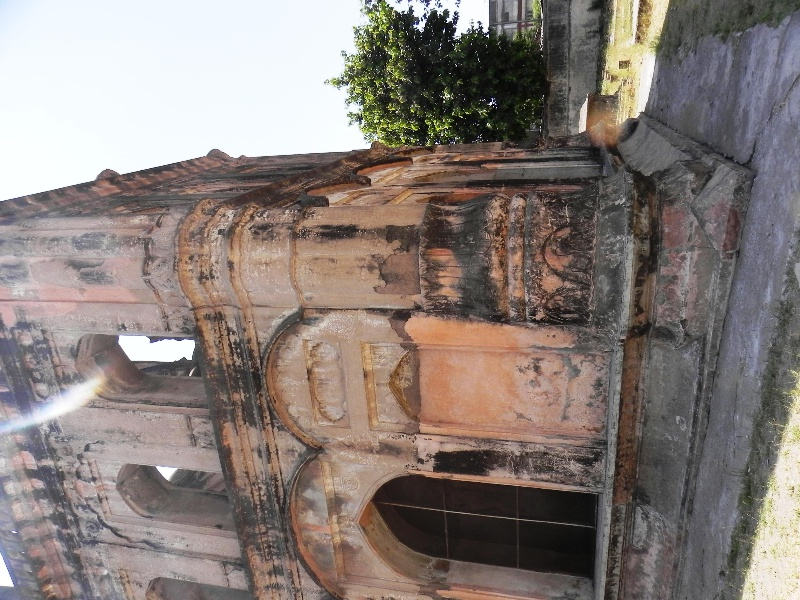Spalling: (373, 247, 424, 301)
